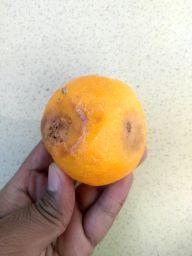Unripe: (43, 76, 147, 186)
